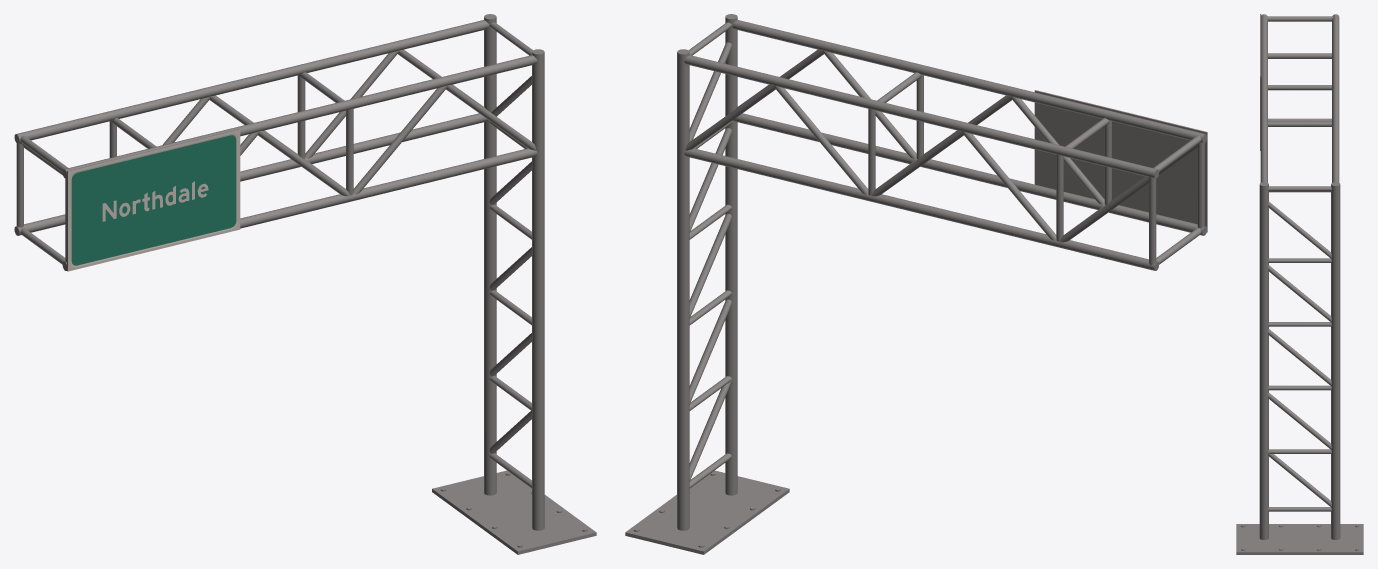
File: Town Sign.glb
3 renders of one model, left to right at view 1: azimuth 30°, elevation 25°; view 2: azimuth 150°, elevation 25°; view 3: azimuth 270°, elevation 25°, orthographic. The views are drawn at different scales.
Parts seen in each view (by area): view 1: TownSign; view 2: TownSign; view 3: TownSign.
Boxes of the visible parts, left/top/right/bottom form: TownSign: left=14, top=14, right=596, bottom=554; TownSign: left=625, top=14, right=1207, bottom=554; TownSign: left=1236, top=14, right=1363, bottom=554.
Size of the model in its own units: 5.98 by 5.35 by 1.74.
1 material, 1 textured.
